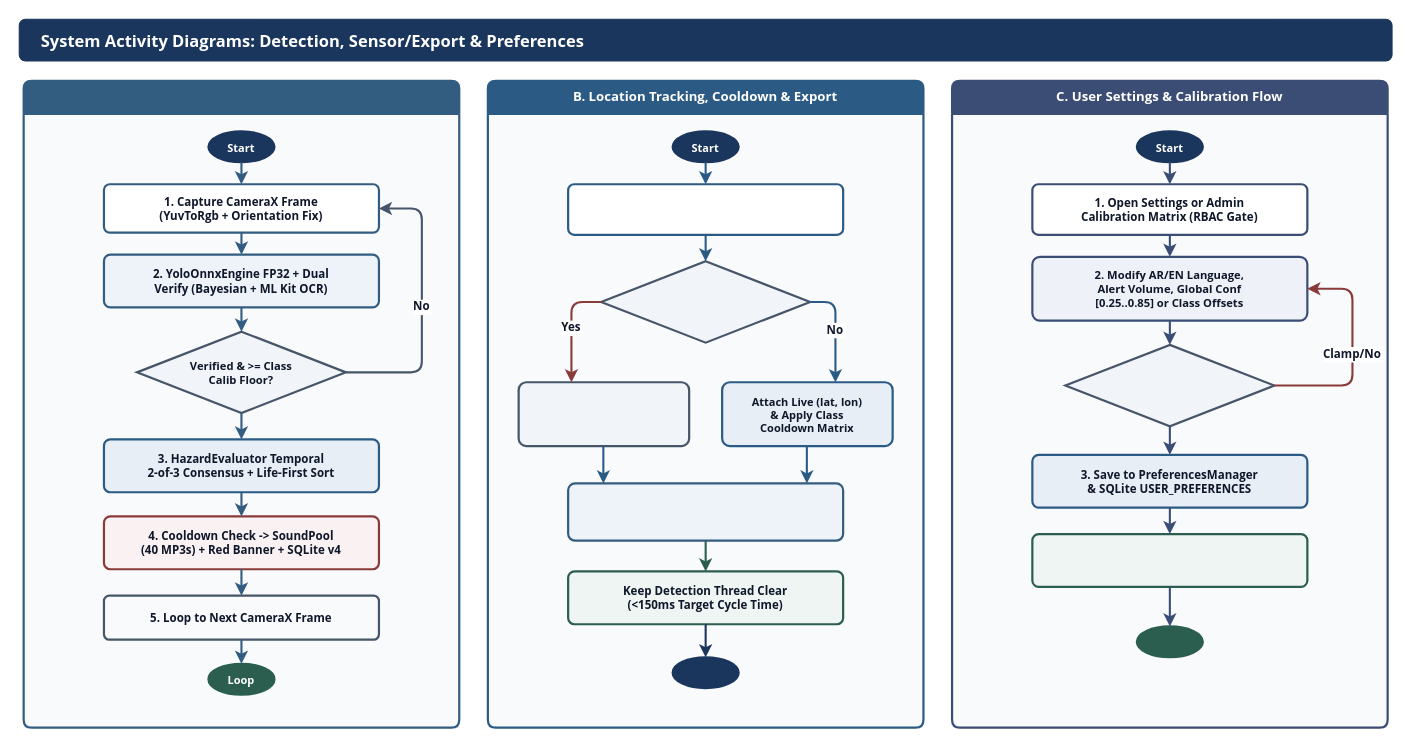
This 1411x748 diagram has some shape labels left out. Here are the shapes that lost their labels. From the top down, the box of each, then its label:
(566, 183, 844, 235): 1. Poll Offline LocationTracker (GPS / Fused / Network + Cache)
(600, 260, 811, 343): Valid Fix & Outside Class Cooldown?
(22, 79, 460, 728): A. Real-Time Detection & Alert Workflow
(1064, 343, 1275, 427): Values Within Safe Window?
(517, 381, 690, 447): Reuse Last Valid Fix & Suppress Duplicate Voice Alerts
(566, 482, 844, 541): Async CSV/TXT Export & Optional Firebase Sync (Non-Blocking)
(1031, 532, 1308, 587): 4. Hot-Reload Engine, Evaluator & AlertSystem (No Restart)
(1135, 625, 1203, 658): Saved
(671, 656, 739, 689): End
